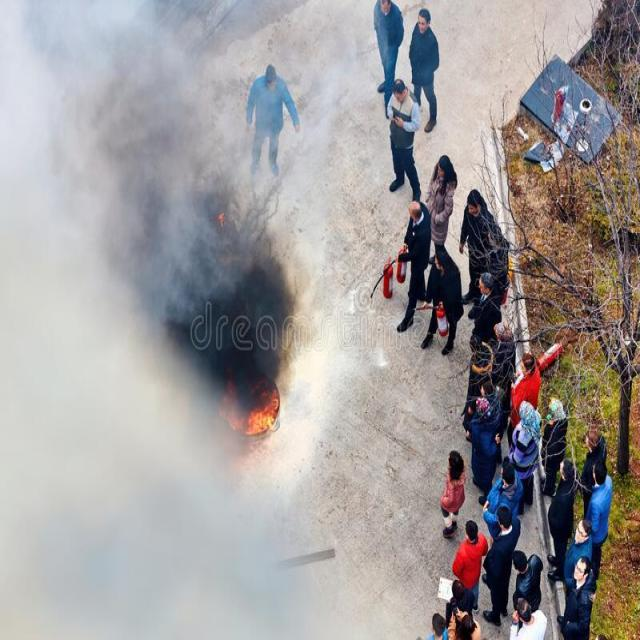fire_extinguisher: (367, 244, 410, 306), (409, 298, 451, 340), (536, 334, 567, 376), (548, 77, 568, 127), (378, 255, 394, 299)
